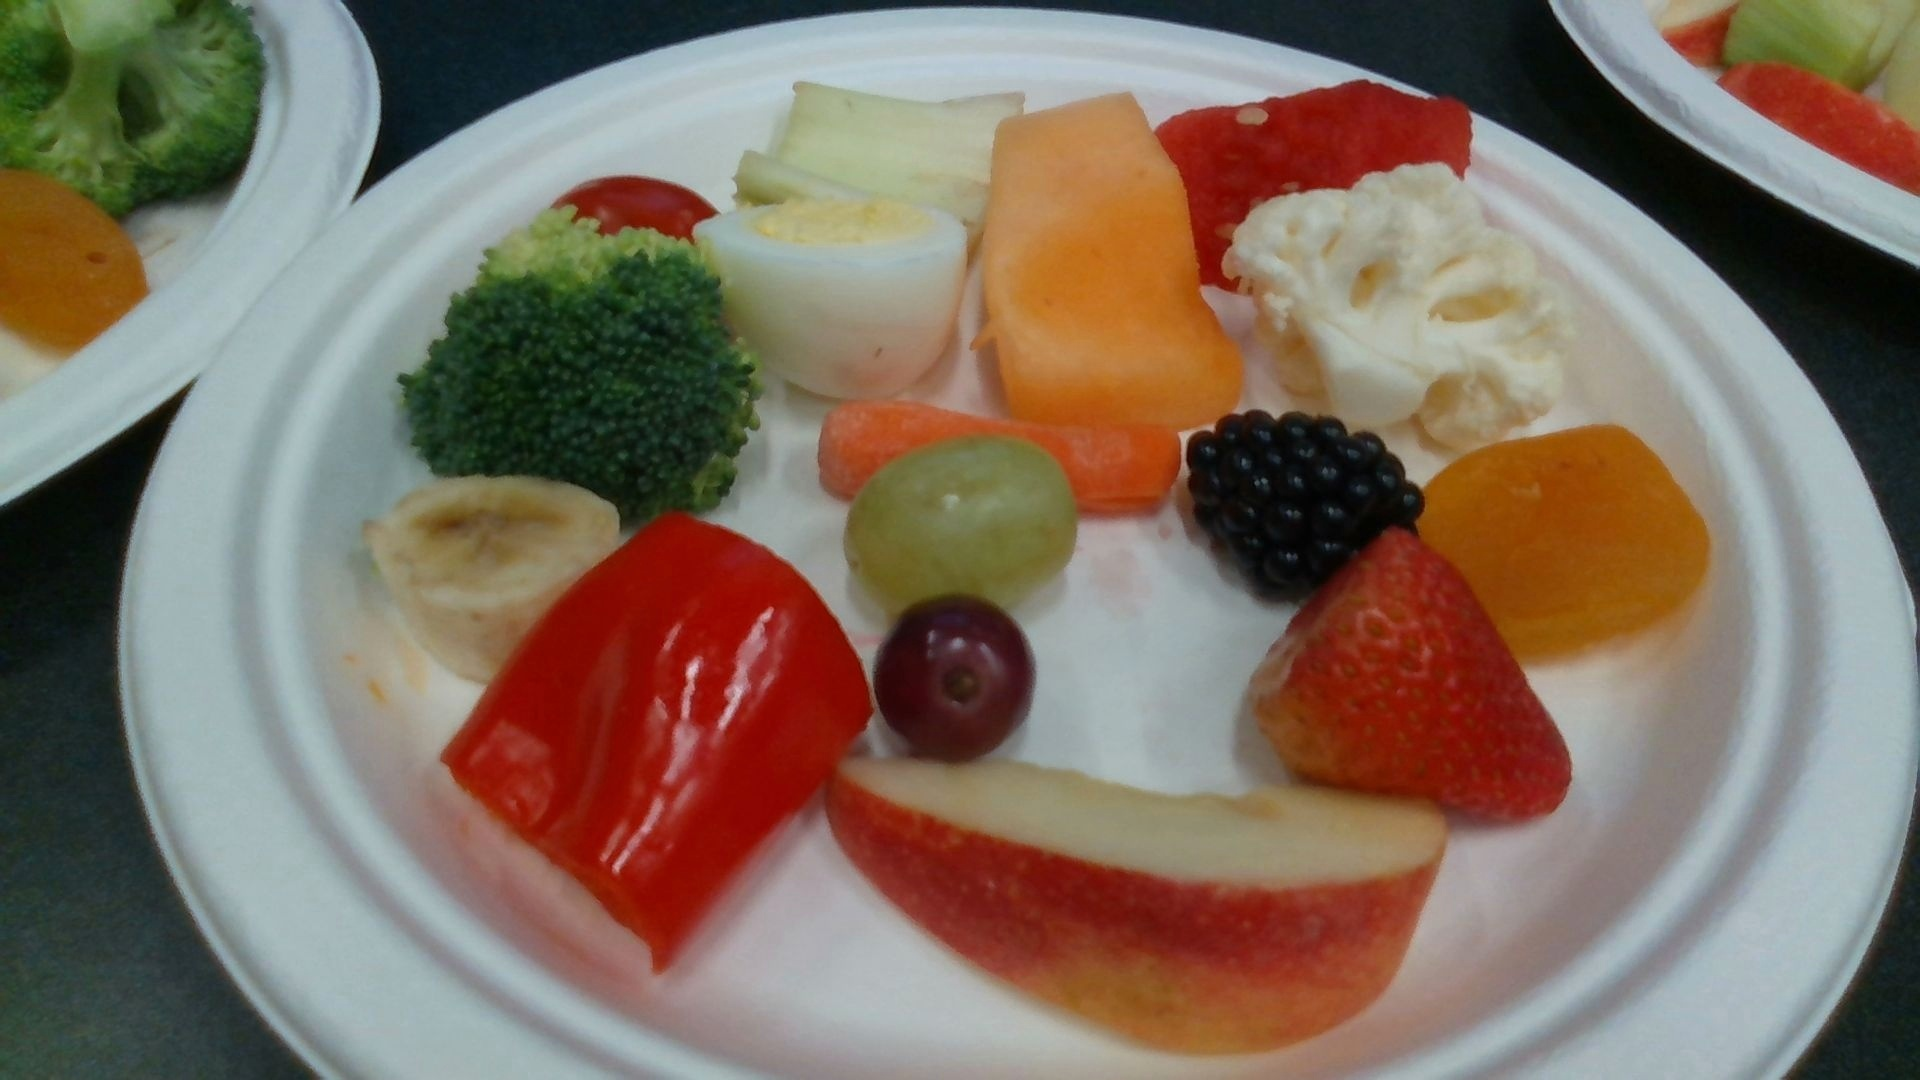apple: (828, 756, 1443, 1051)
apricot: (1422, 429, 1706, 658)
banana: (365, 476, 617, 678)
bell_pepper: (450, 518, 874, 967)
blackberry: (1189, 415, 1422, 591)
broccoli: (400, 211, 754, 521)
cantalope: (984, 96, 1247, 415)
carrot: (819, 405, 1180, 512)
cauliflower: (1226, 166, 1567, 435)
celery: (737, 80, 1025, 237)
egg: (694, 200, 964, 396)
grape_green: (845, 436, 1075, 605)
grape_purple: (874, 597, 1035, 761)
melon: (1156, 80, 1472, 287)
strawberry: (1251, 530, 1572, 820)
